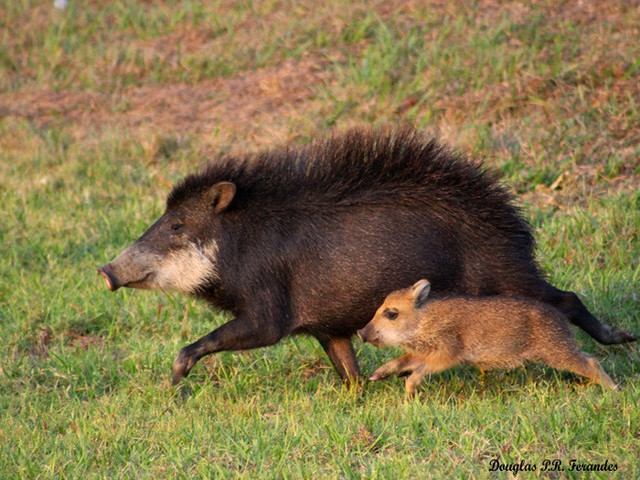Pig: (99, 124, 630, 386)
